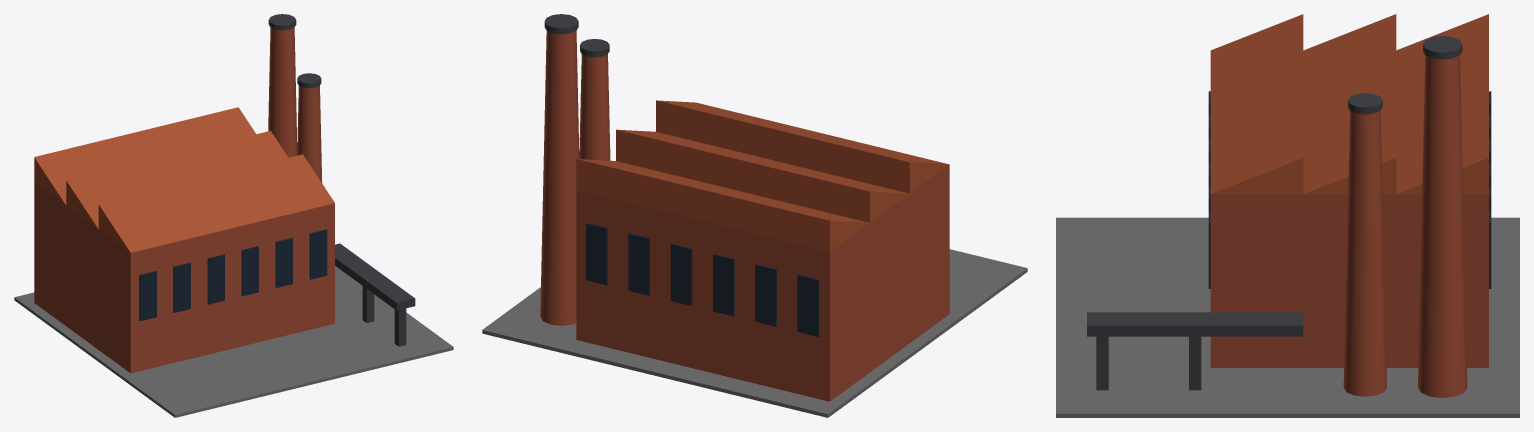
The model's file is bld_special_factory_a04.glb.
3 views of the same model, side by side, from view 1: azimuth 30°, elevation 25°; view 2: azimuth 150°, elevation 25°; view 3: azimuth 270°, elevation 25° (orthographic). The views are drawn at different scales.
Parts seen in each view (by area): view 1: body; view 2: body; view 3: body.
Part boxes in pixels (x1,y1,x2,y2): body: (14,14,453,417); body: (482,14,1027,417); body: (1056,14,1519,417).
Size of what is drawn, in the model's own units: 15 by 12.4 by 15.
